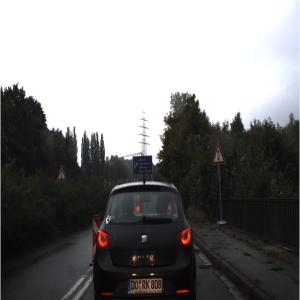DANGER: (57, 166, 68, 183)
traffic signal: (212, 143, 227, 166)
